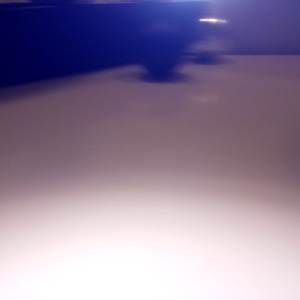alive_ball: (184, 18, 235, 56)
dead_ball: (135, 20, 183, 73)
